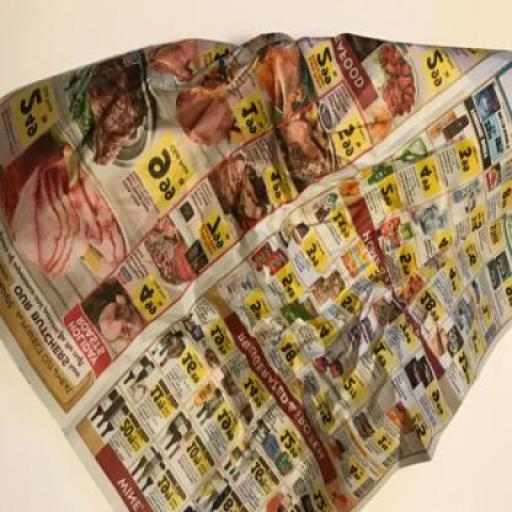paper: (1, 32, 511, 511)
